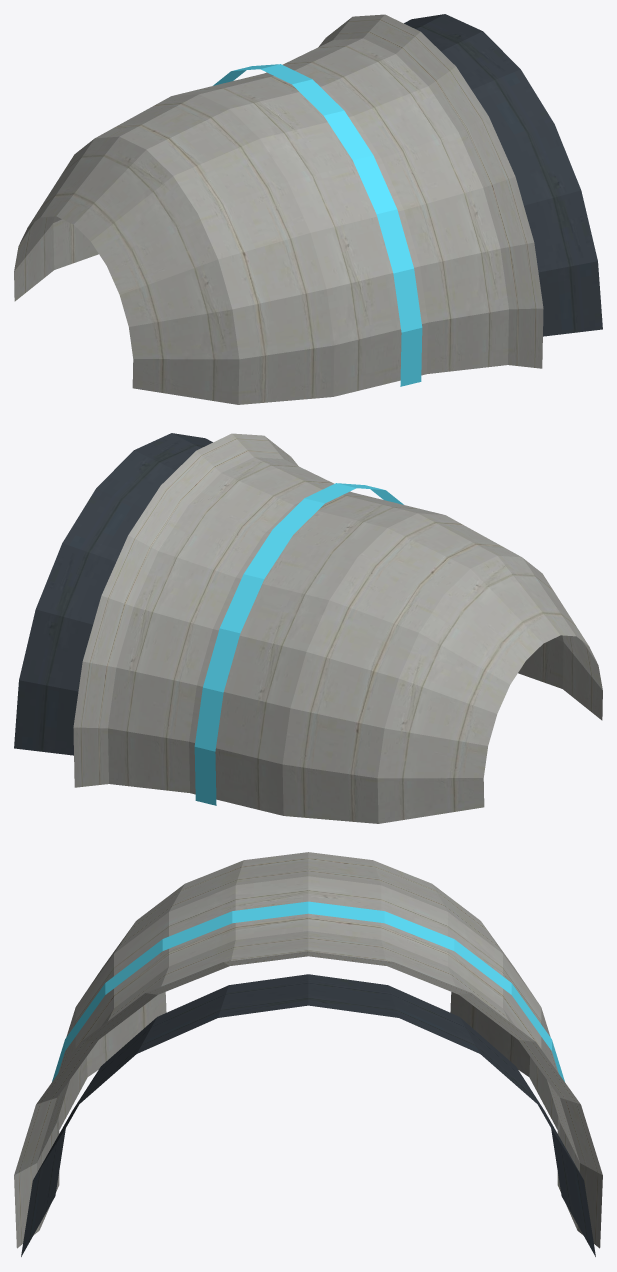
File: eq_future_2_shoulder.glb
3 views of the same model, one above another, from view 1: azimuth 30°, elevation 25°; view 2: azimuth 150°, elevation 25°; view 3: azimuth 270°, elevation 25° (orthographic). The views are drawn at different scales.
Visible parts, largest first — view 1: eq_future_2_shoulder; view 2: eq_future_2_shoulder; view 3: eq_future_2_shoulder.
Part boxes in pixels (x1,y1,x2,y2): eq_future_2_shoulder: (14,14,602,404); eq_future_2_shoulder: (14,433,602,823); eq_future_2_shoulder: (14,852,602,1256).
Size of the model in its own units: 0.2049 by 0.1186 by 0.2129.
Materials: 3 (3 with a texture image).
